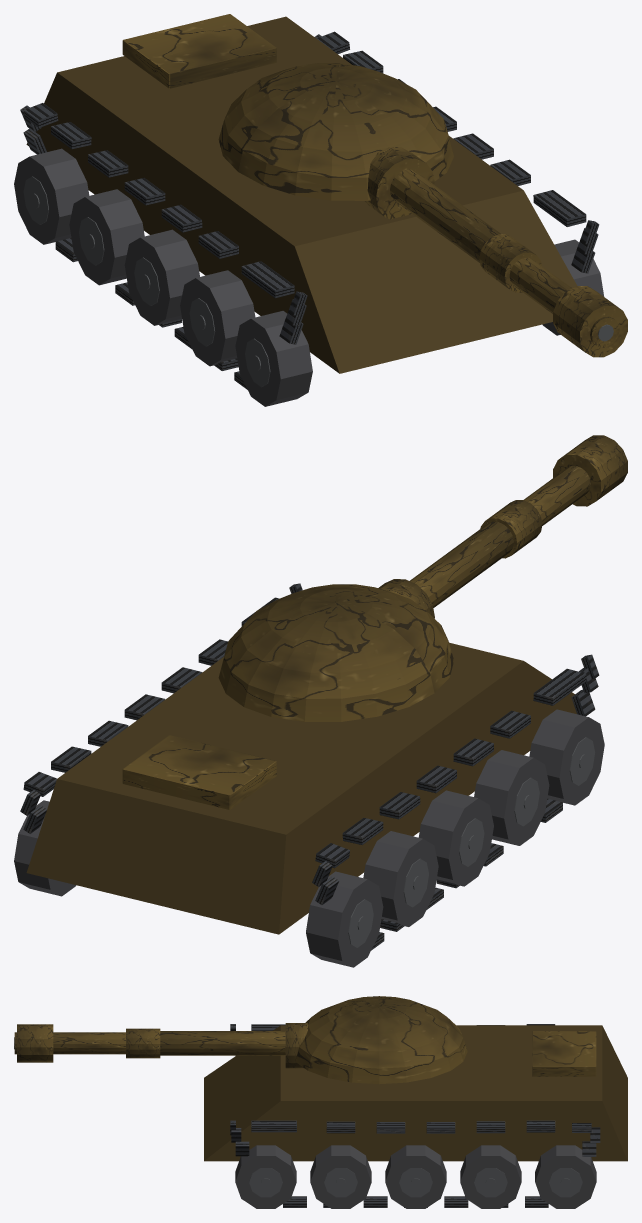
Rendered from kestrel_LOD2.glb.
The picture shows the model from 3 angles, top to bottom: view 1: azimuth 30°, elevation 25°; view 2: azimuth 150°, elevation 25°; view 3: azimuth 270°, elevation 25°; orthographic projection. The views are drawn at different scales.
Visible parts, largest first — view 1: HullMesh, Wheels_L, TurretMesh, TrackL, TrackR, Gun_tube1, Gun_brk, Gun_tube2, Gun_ext, Wheels_R; view 2: HullMesh, TurretMesh, Wheels_L, TrackL, TrackR, Gun_tube1, Gun_brk, Gun_tube2, Wheels_R, Gun_ext; view 3: HullMesh, Wheels_R, TurretMesh, TrackR, Gun_tube1, Gun_tube2, Gun_brk, Gun_ext, TrackL.
Boxes of the visible parts, x1,y1,x2,y2 form: HullMesh: (26,14,577,373); Wheels_L: (14,148,312,406); TurretMesh: (218,63,453,219); TrackL: (20,103,307,389); TrackR: (314,31,599,273); Gun_tube1: (390,169,501,262); Gun_brk: (553,286,627,357); Gun_tube2: (509,257,619,347); Gun_ext: (479,234,541,292); Wheels_R: (542,239,604,335); HullMesh: (26,642,576,934); TurretMesh: (218,579,453,721); Wheels_L: (306,709,604,967); TrackL: (312,654,599,950); TrackR: (20,583,302,833); Gun_tube1: (410,521,513,607); Gun_brk: (553,435,627,506); Gun_tube2: (524,466,590,525); Wheels_R: (14,800,75,896); Gun_ext: (480,500,542,558); HullMesh: (204,1025,627,1161); Wheels_R: (235,1145,596,1208); TurretMesh: (285,996,467,1084); TrackR: (230,1120,600,1207); Gun_tube1: (160,1031,285,1055); Gun_tube2: (14,1032,125,1054); Gun_brk: (17,1024,53,1062); Gun_ext: (126,1028,160,1058); TrackL: (230,1024,555,1030).
Size of the model in its own units: 3.5 by 2.27 by 8.4.
5 materials, 3 textured.
